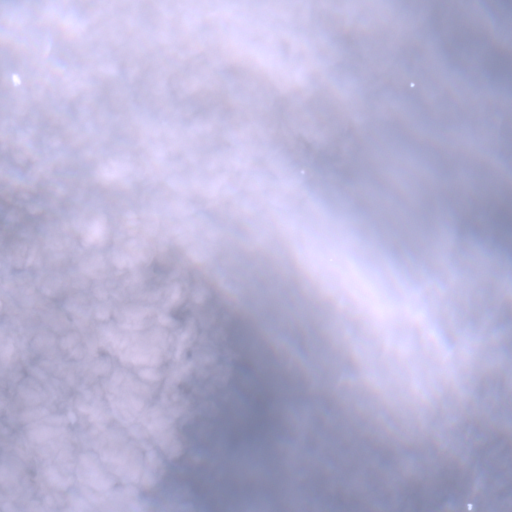Iceberg: (12, 74, 20, 86), (467, 504, 472, 509), (411, 83, 414, 86)
